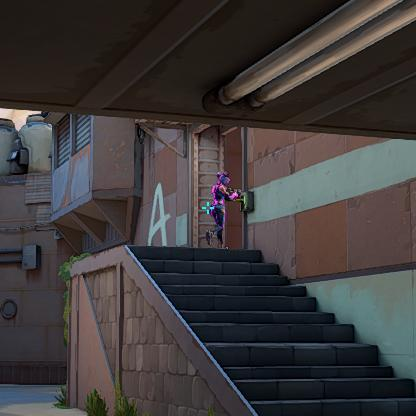enemyBody: (216, 186, 223, 206)
enemyHead: (220, 177, 227, 184)
